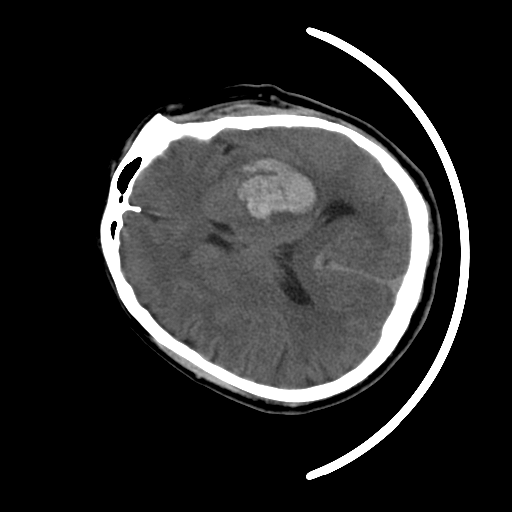a: (203, 144, 332, 235)
